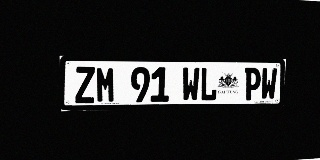1: (151, 67, 169, 102)
9: (131, 67, 150, 102)
L: (200, 67, 218, 101)
M: (96, 67, 116, 103)
P: (244, 68, 261, 100)
W: (182, 67, 200, 101), (260, 68, 278, 100)
Z: (74, 66, 95, 103)
